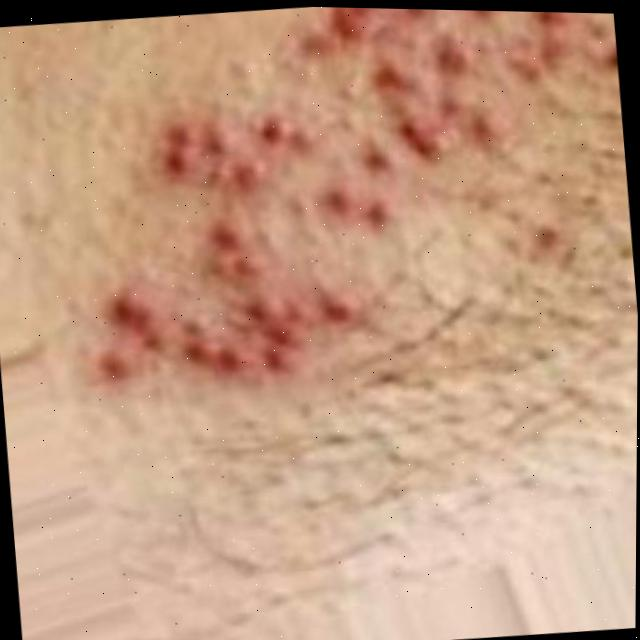Shingles: (46, 1, 602, 410)
